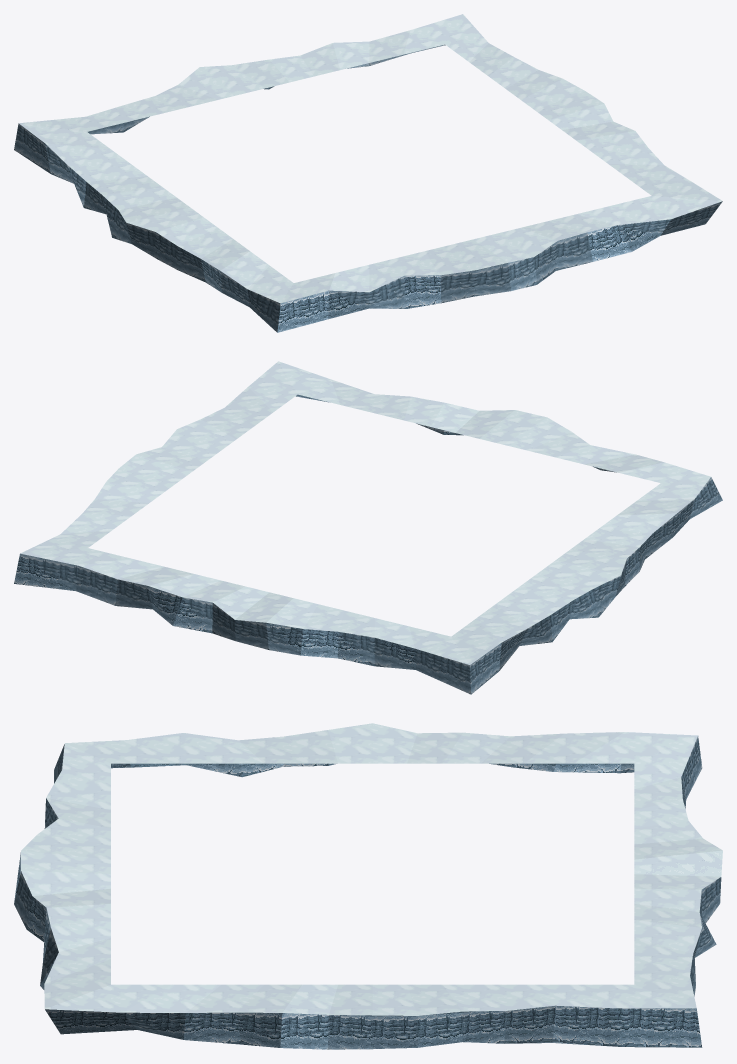
The model's file is entorno.fbx.
3 renders of one model, top to bottom at view 1: azimuth 30°, elevation 25°; view 2: azimuth 150°, elevation 25°; view 3: azimuth 270°, elevation 25°, orthographic. The views are drawn at different scales.
Visible parts, largest first — view 1: neve_entorno; view 2: neve_entorno; view 3: neve_entorno.
Part boxes in pixels (x1,y1,x2,y2): neve_entorno: (14,14,722,332); neve_entorno: (14,361,722,694); neve_entorno: (14,723,722,1049).
Size of the model in its own units: 1631 by 106 by 1652.
Materials: 2 (2 with a texture image).
